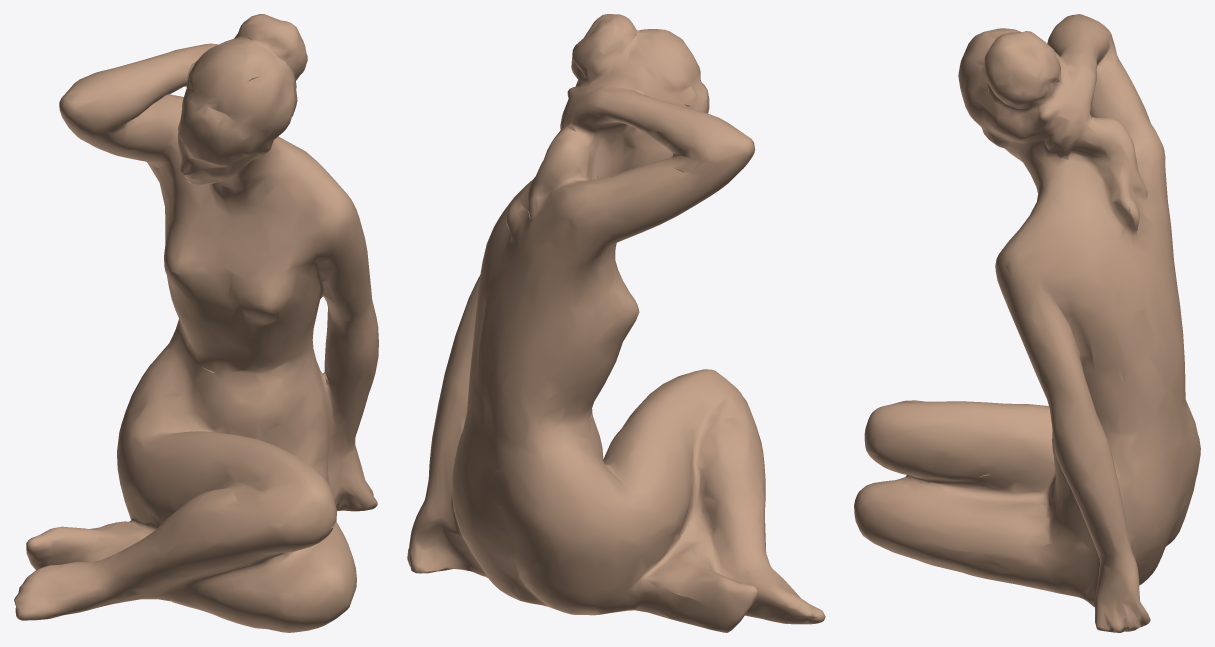
The model's file is scan.FBX.
3 renders of one model, left to right at view 1: azimuth 30°, elevation 25°; view 2: azimuth 150°, elevation 25°; view 3: azimuth 270°, elevation 25°, orthographic. The views are drawn at different scales.
Parts seen in each view (by area): view 1: mesh; view 2: mesh; view 3: mesh.
Part boxes in pixels (left/top/right/bottom): mesh: left=14, top=14, right=378, bottom=632; mesh: left=407, top=14, right=825, bottom=632; mesh: left=854, top=14, right=1200, bottom=632.
Bounding box in the file's own units: 2951901 × 4025532 × 2391907.
